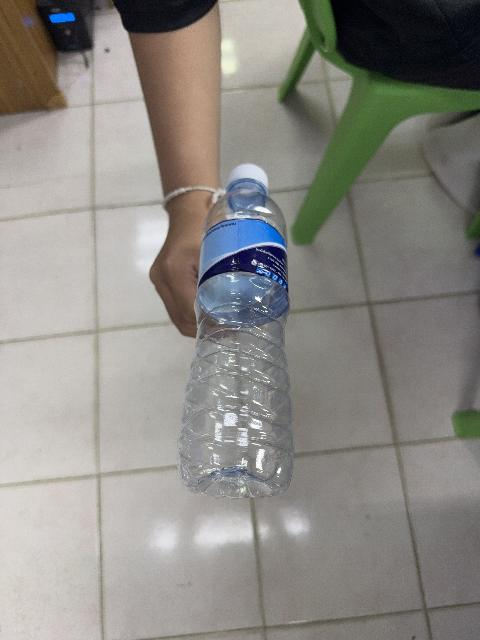bottle: (178, 165, 293, 497)
